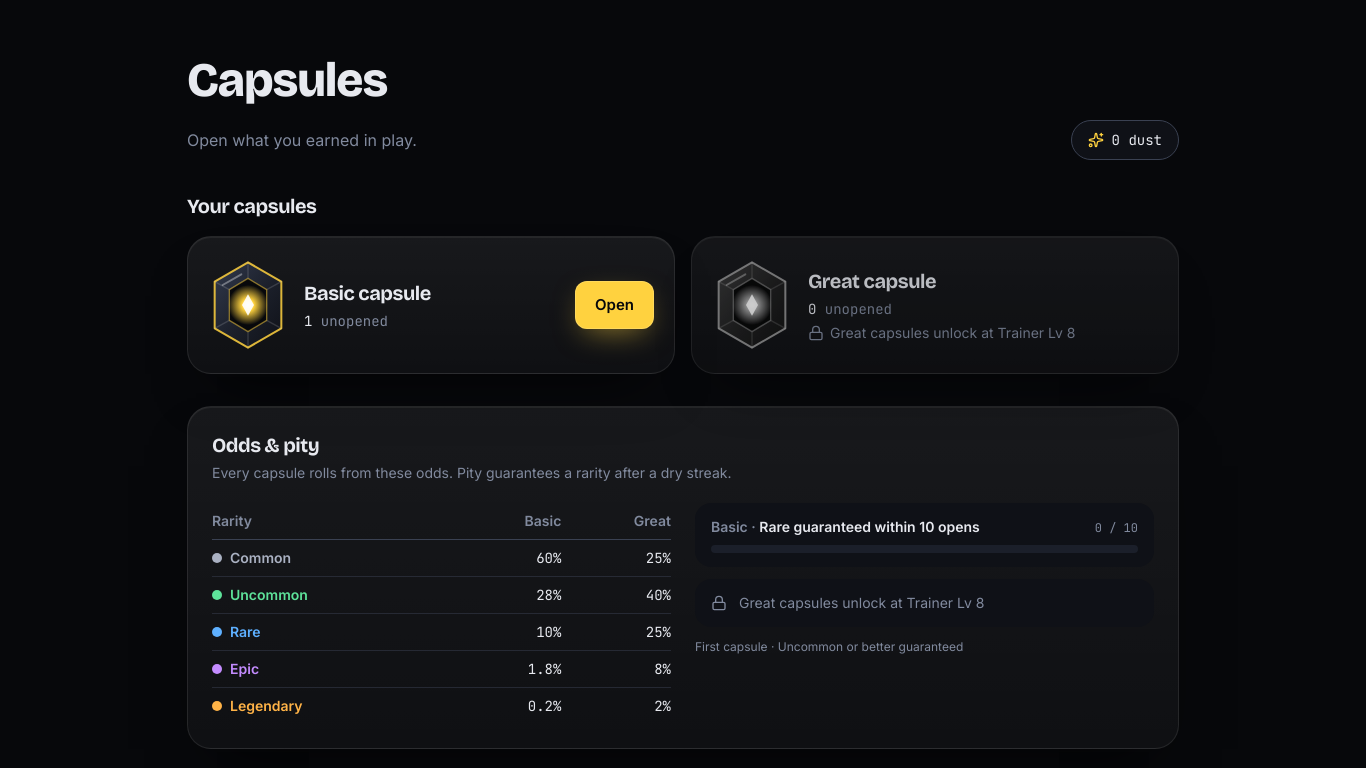
Scenario: CapsulesPage › shows "Couldn't open. Try again" when the open fails, and leaves the save alone
Click the button with aria-label "Open 1 Basic capsule" at (615, 305), box [575,281,654,329]
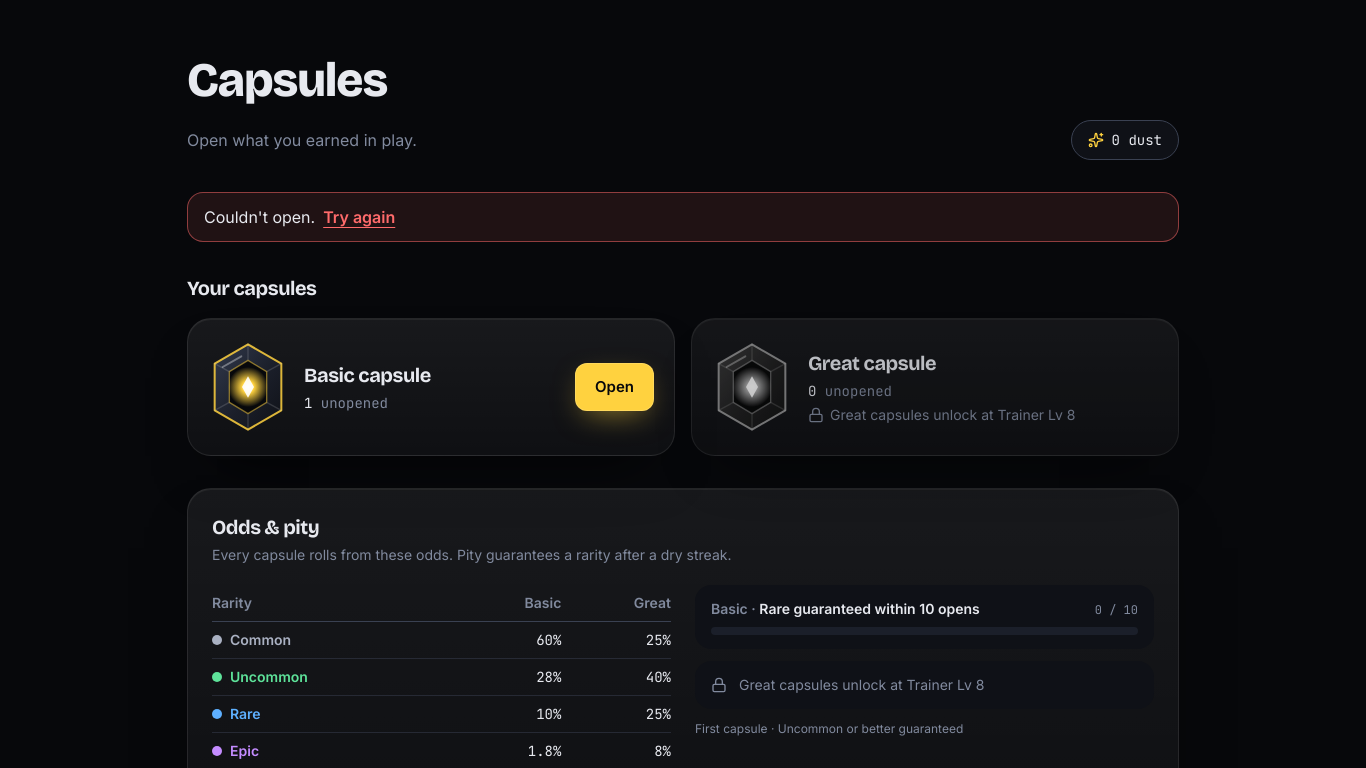
Now the message reads "Couldn't open. Try again", box [187,192,1179,242]
Click the button "Try again" at (359, 217), box [323,205,395,229]
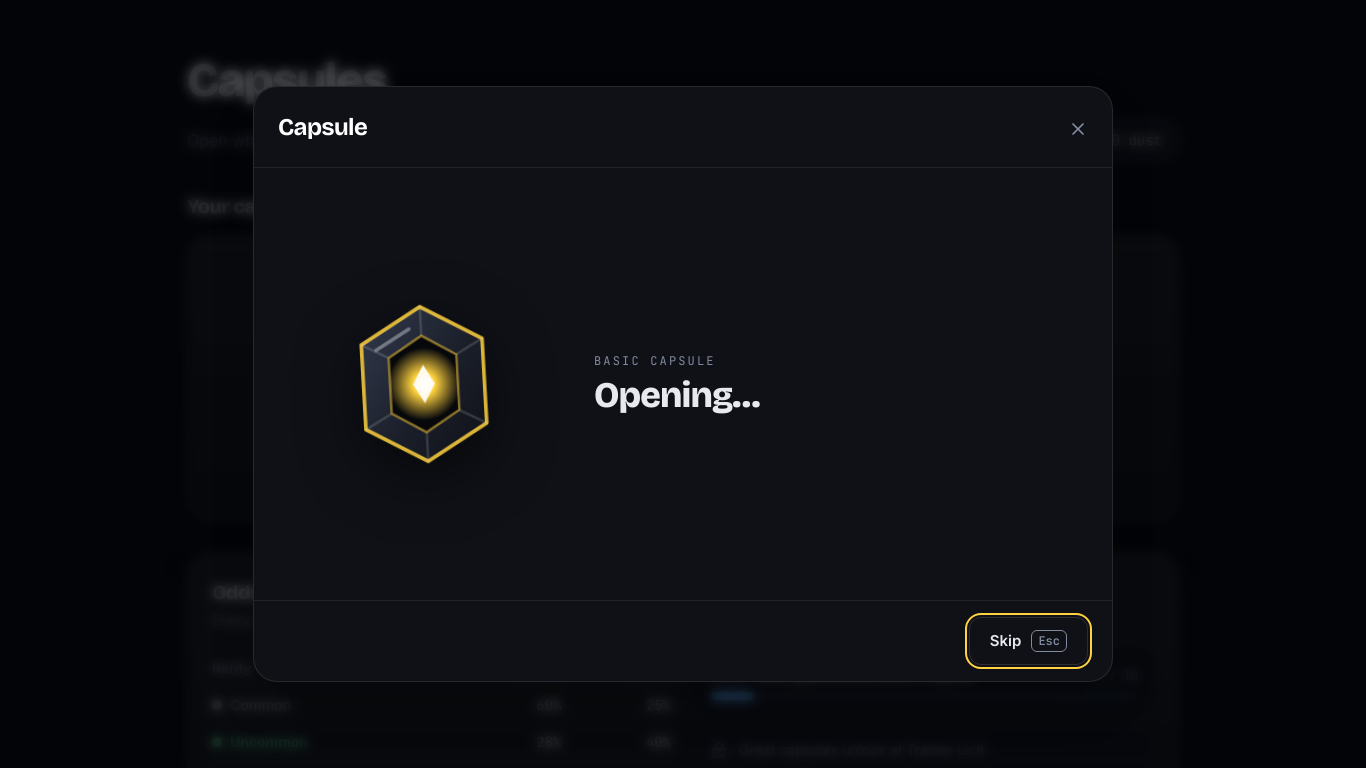
Now the message "Couldn't open. Try again" is gone
Now the dialog "Capsule" is shown, box [253,86,1113,682]
